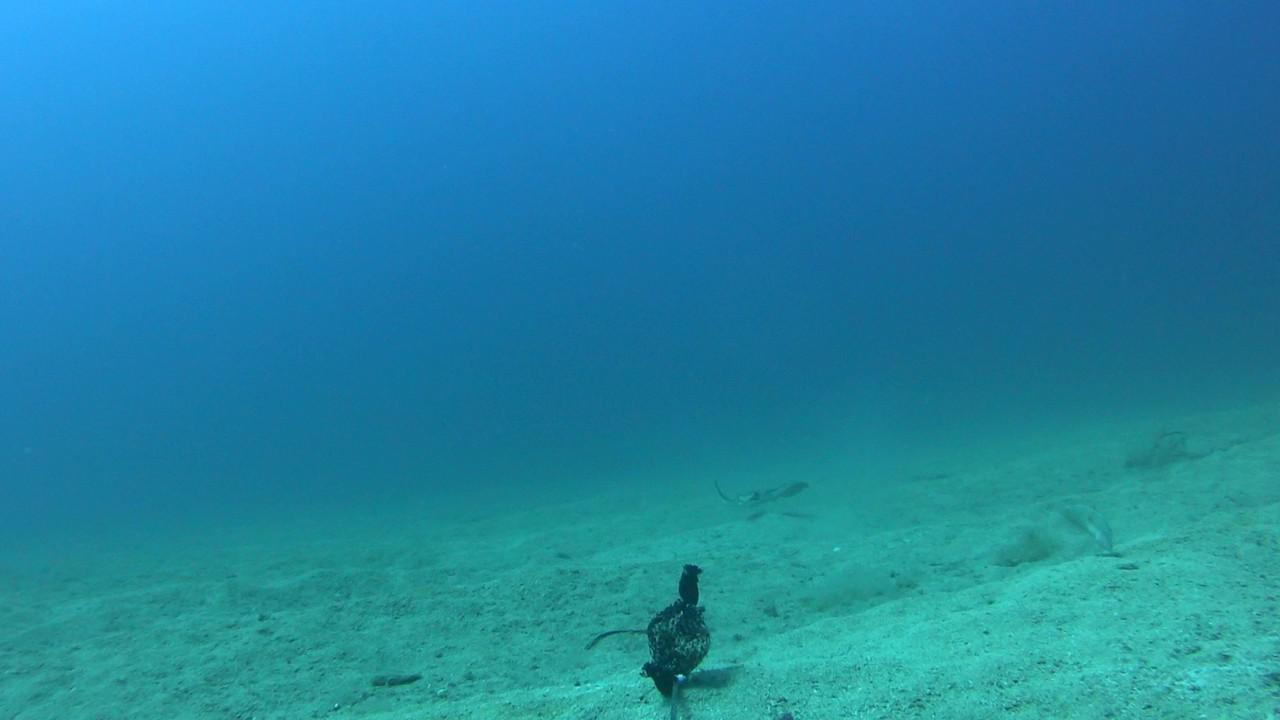myliobatis: (705, 468, 815, 530)
raor: (1054, 499, 1120, 552)
